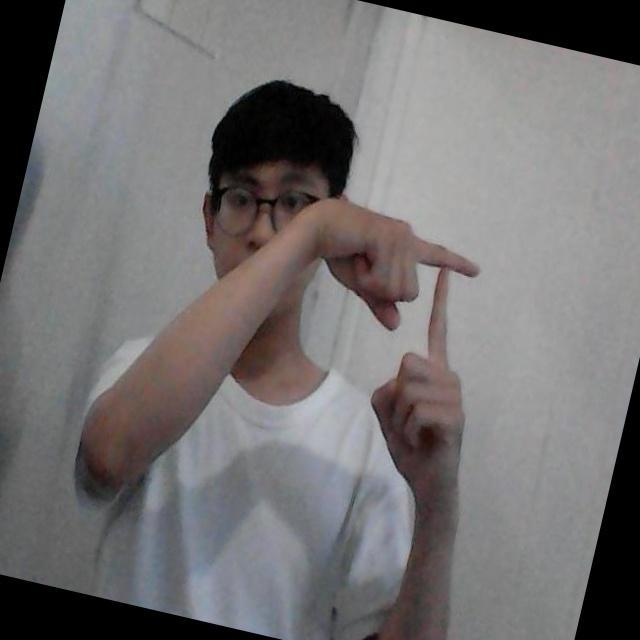T: (284, 182, 510, 494)
